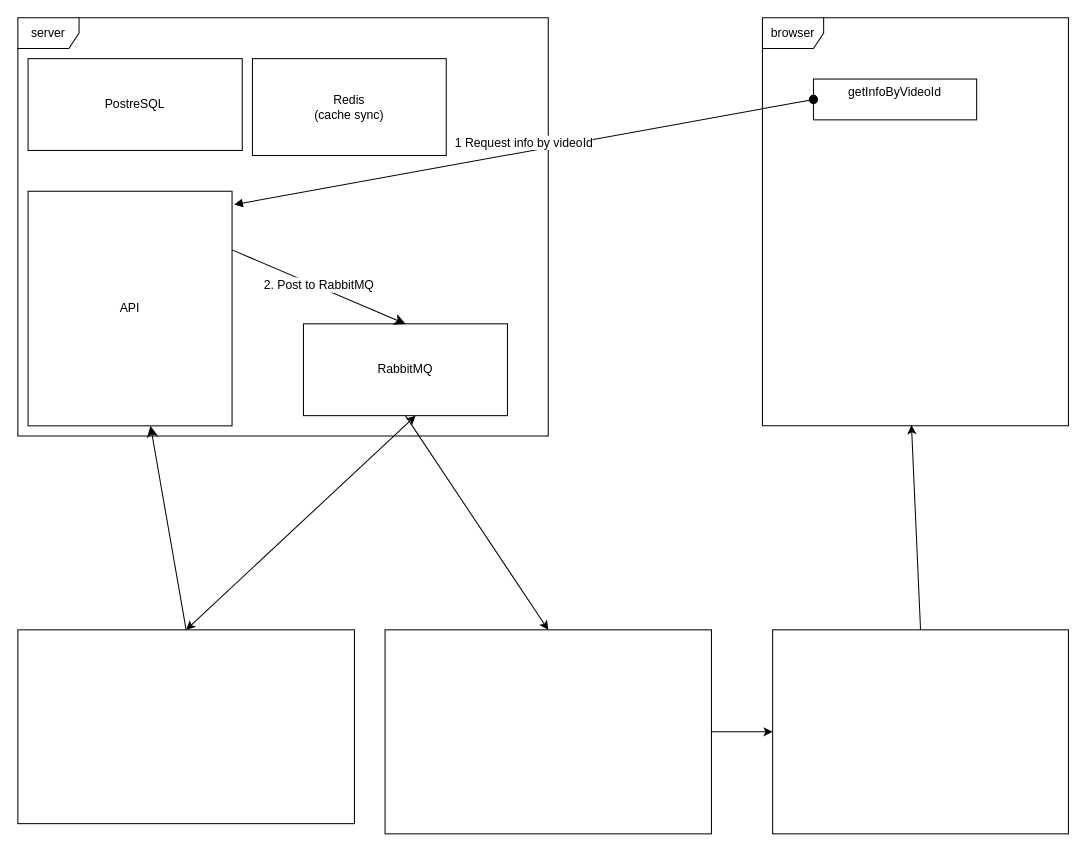
Some shapes in this 1086 by 852 pixel diagram are drawn without their labels. The centre of each missing label's shape, as x and y in pixels:
download-server 1...N (docker image on dockerhub) Call Youtube API: point 185,726
firebase storage contains JSON files: point 920,731
statistic -server 1...N (docker image on dockerhub) Upload JSON to firebase: point 547,731
